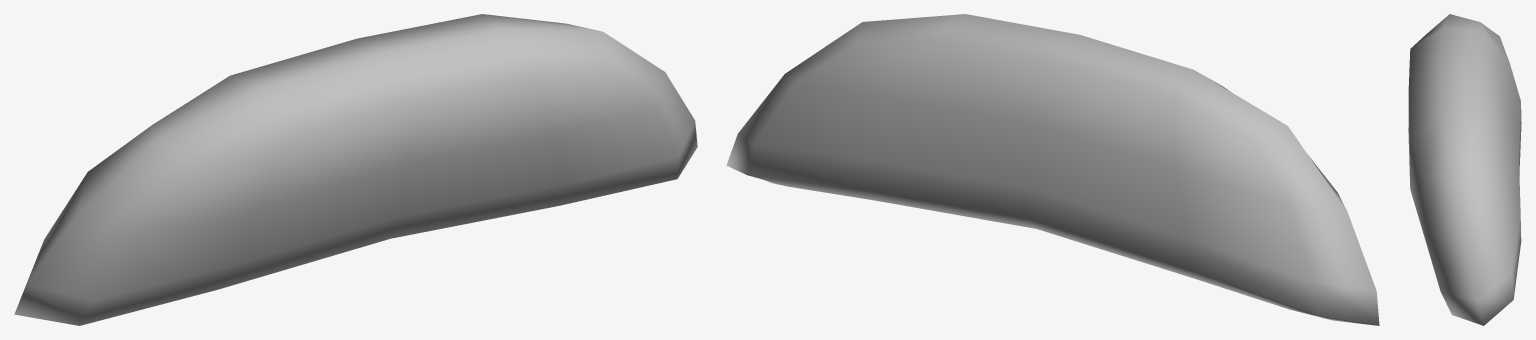
The model's file is Mustache_White_012.glb.
The picture shows the model from 3 angles, left to right: view 1: azimuth 30°, elevation 25°; view 2: azimuth 150°, elevation 25°; view 3: azimuth 270°, elevation 25°; orthographic projection. The views are drawn at different scales.
Visible parts, largest first — view 1: Mustache_White_012; view 2: Mustache_White_012; view 3: Mustache_White_012.
Boxes of the visible parts, x1,y1,x2,y2 form: Mustache_White_012: [14, 14, 697, 325]; Mustache_White_012: [726, 14, 1379, 325]; Mustache_White_012: [1408, 14, 1521, 325].
Size of the model in its own units: 0.1509 by 0.0433 by 0.0302.
Materials: 1 (1 with a texture image).
